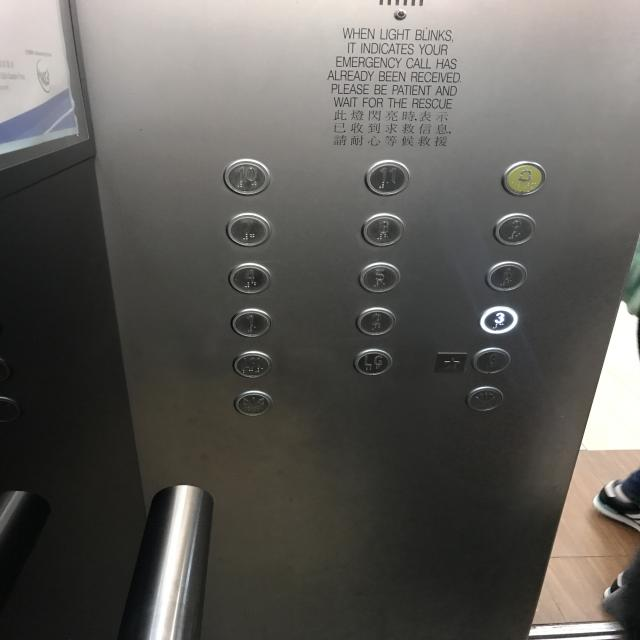1: (229, 307, 273, 338)
10: (222, 158, 272, 196)
11: (364, 159, 411, 196)
2: (355, 306, 397, 336)
3: (477, 305, 519, 335)
4: (226, 261, 272, 295)
5: (357, 260, 401, 294)
6: (485, 260, 528, 292)
7: (224, 211, 273, 247)
8: (361, 211, 405, 247)
9: (493, 211, 537, 247)
G: (470, 346, 512, 375)
LG: (352, 348, 394, 376)
LG1: (230, 349, 274, 378)
alarm: (499, 160, 546, 197)
close: (233, 389, 273, 416)
open: (465, 385, 505, 412)
s: (432, 350, 468, 377)
